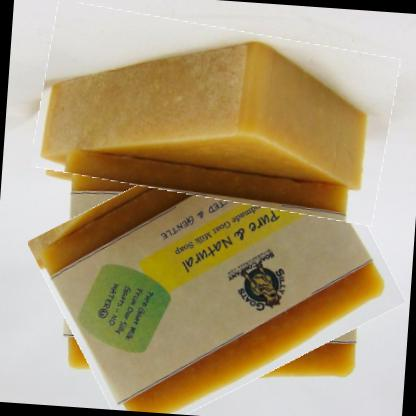soap: (33, 116, 401, 415), (32, 7, 398, 218)
